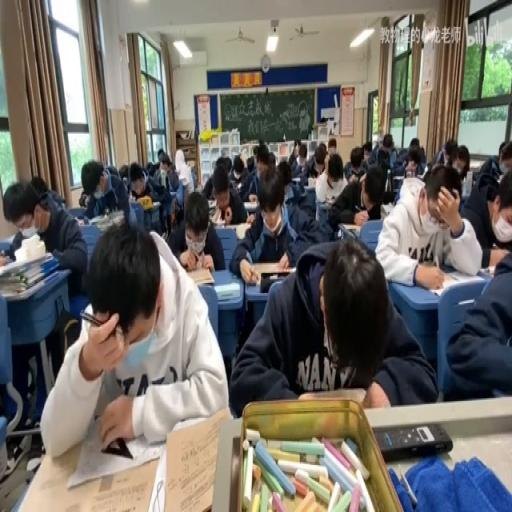calculator: (154, 405, 234, 512), (422, 267, 480, 296), (299, 385, 364, 401), (182, 266, 214, 286), (317, 199, 334, 229), (219, 219, 248, 236), (214, 282, 240, 300), (390, 172, 404, 191), (210, 206, 224, 224), (380, 200, 394, 218), (139, 199, 161, 209), (340, 220, 358, 232), (88, 213, 105, 225), (477, 266, 494, 277), (242, 199, 258, 208), (206, 199, 216, 212), (306, 176, 316, 188), (291, 176, 303, 184), (75, 216, 84, 225), (418, 168, 428, 176)
paper: (43, 219, 230, 455), (228, 234, 429, 416), (376, 163, 482, 286), (1, 178, 87, 296), (226, 168, 313, 283), (447, 248, 512, 401), (169, 186, 225, 270), (326, 159, 385, 229), (80, 158, 133, 227), (142, 151, 178, 232), (390, 135, 422, 179), (230, 151, 256, 199), (373, 145, 395, 199), (426, 138, 454, 172), (474, 152, 502, 186), (173, 150, 192, 200), (290, 142, 313, 182), (453, 144, 469, 180), (276, 158, 292, 188), (254, 142, 270, 169), (324, 137, 339, 165), (29, 174, 47, 196), (130, 168, 144, 193), (348, 152, 362, 174), (218, 155, 231, 176), (118, 163, 130, 185), (314, 152, 326, 174), (362, 139, 372, 161), (382, 134, 394, 152), (498, 141, 507, 158), (78, 191, 88, 206), (106, 163, 118, 175), (408, 136, 418, 150), (155, 148, 165, 162), (144, 161, 154, 175), (158, 158, 168, 171), (296, 142, 302, 155)
person: (373, 422, 452, 461), (259, 268, 291, 292)
